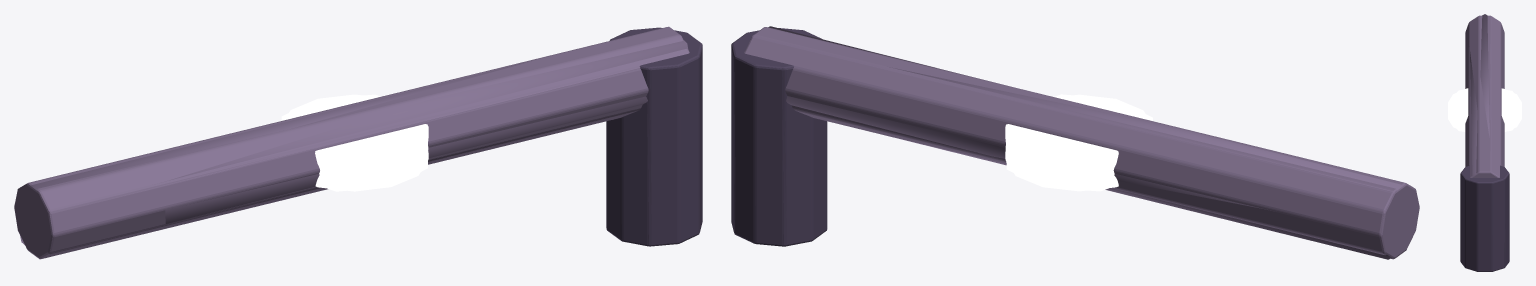
File: SM_Labor_Pipe.fbx
3 views of the same model, side by side, from view 1: azimuth 30°, elevation 25°; view 2: azimuth 150°, elevation 25°; view 3: azimuth 270°, elevation 25° (orthographic). The views are drawn at different scales.
Visible parts, largest first — view 1: LOD0_SM_Labor_Pipe, LOD3_SM_Labor_Pipe, LOD1_SM_Labor_Pipe, LOD2_SM_Labor_Pipe; view 2: LOD0_SM_Labor_Pipe, LOD3_SM_Labor_Pipe, LOD1_SM_Labor_Pipe, LOD2_SM_Labor_Pipe; view 3: LOD0_SM_Labor_Pipe, LOD1_SM_Labor_Pipe, LOD3_SM_Labor_Pipe, LOD2_SM_Labor_Pipe.
Boxes of the visible parts, x1,y1,x2,y2 form: LOD0_SM_Labor_Pipe: [14, 27, 702, 258]; LOD3_SM_Labor_Pipe: [17, 40, 702, 258]; LOD1_SM_Labor_Pipe: [15, 27, 699, 259]; LOD2_SM_Labor_Pipe: [17, 26, 701, 253]; LOD0_SM_Labor_Pipe: [731, 27, 1419, 258]; LOD3_SM_Labor_Pipe: [733, 26, 1406, 259]; LOD1_SM_Labor_Pipe: [732, 27, 1419, 259]; LOD2_SM_Labor_Pipe: [732, 35, 1407, 258]; LOD0_SM_Labor_Pipe: [1448, 15, 1521, 271]; LOD1_SM_Labor_Pipe: [1449, 16, 1521, 271]; LOD3_SM_Labor_Pipe: [1456, 14, 1513, 271]; LOD2_SM_Labor_Pipe: [1448, 16, 1521, 267].
Size of the model in its own units: 3.09 by 0.8641 by 0.5977.
